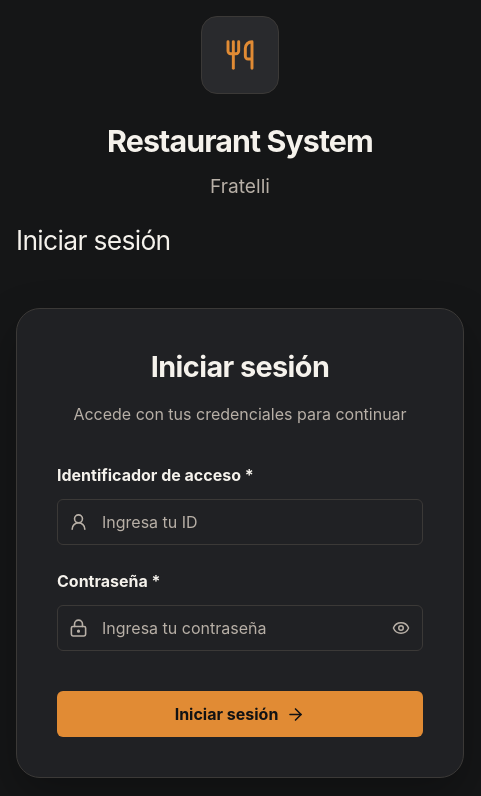
Test: LoginPage › validates required credentials and connects each error to its control
Step 1. Click the button "Iniciar sesión" → (240,714), box [57, 691, 423, 737]
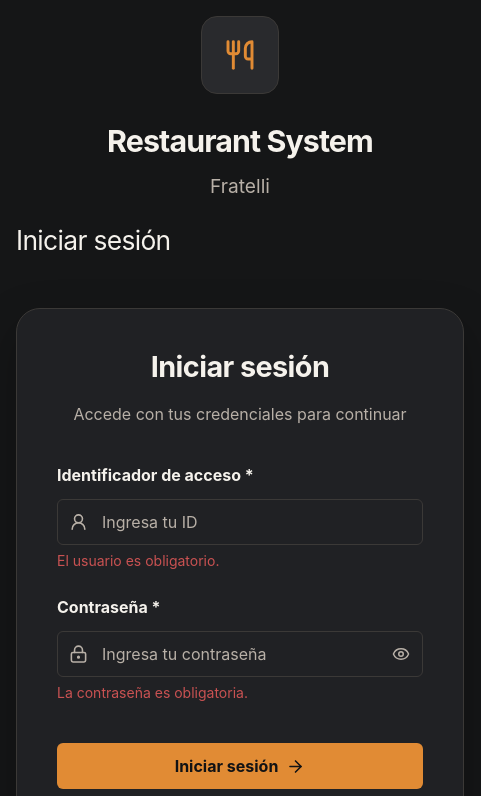
Expected: the number of messages is 2, [57, 552, 219, 569]; [57, 684, 248, 701]
